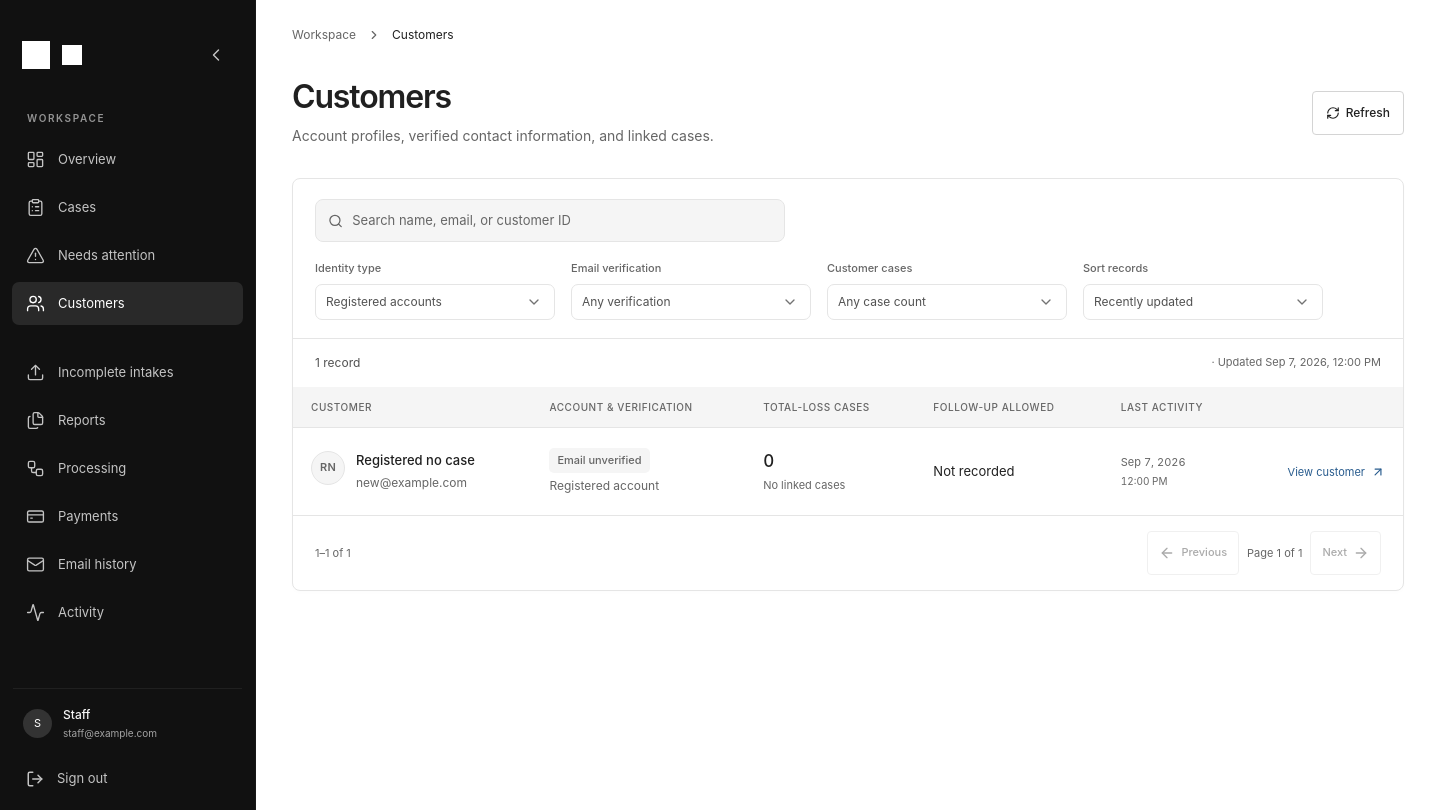
Test: admin operations workspace › includes registered accounts without cases and separates guests by identity
Expected: the link "Guest visitor" is not shown
Step 1. Click the link "Registered no case" → click(415, 460), box [356, 452, 475, 468]
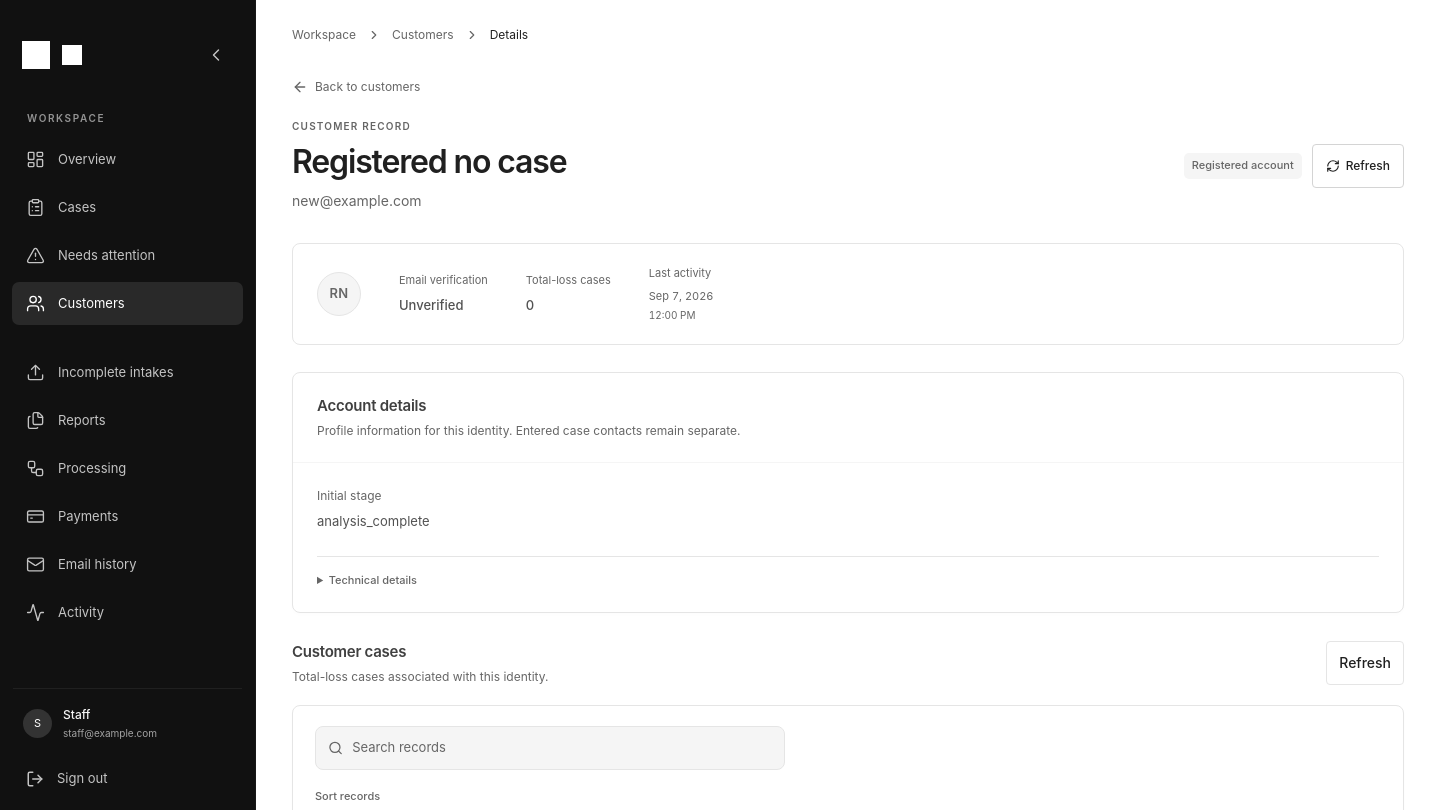
Expected: the heading "Registered no case" is shown, [292, 143, 566, 181]
Step 2. Click the link "Back to customers" → click(356, 87), box [292, 78, 420, 96]
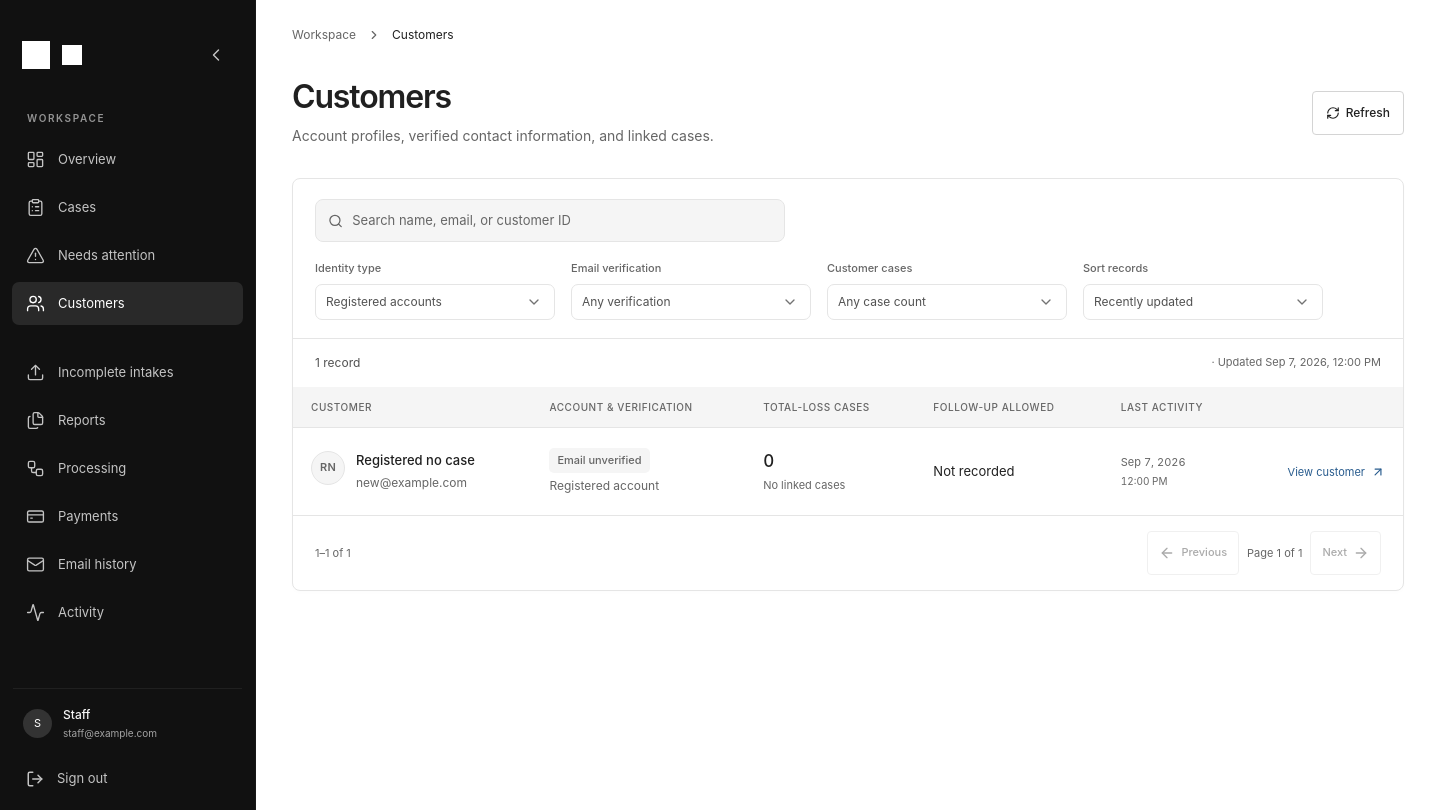
Step 3. Select "Guest sessions" in the dropdown labelled "Identity type" → (435, 302), box [315, 284, 555, 320]
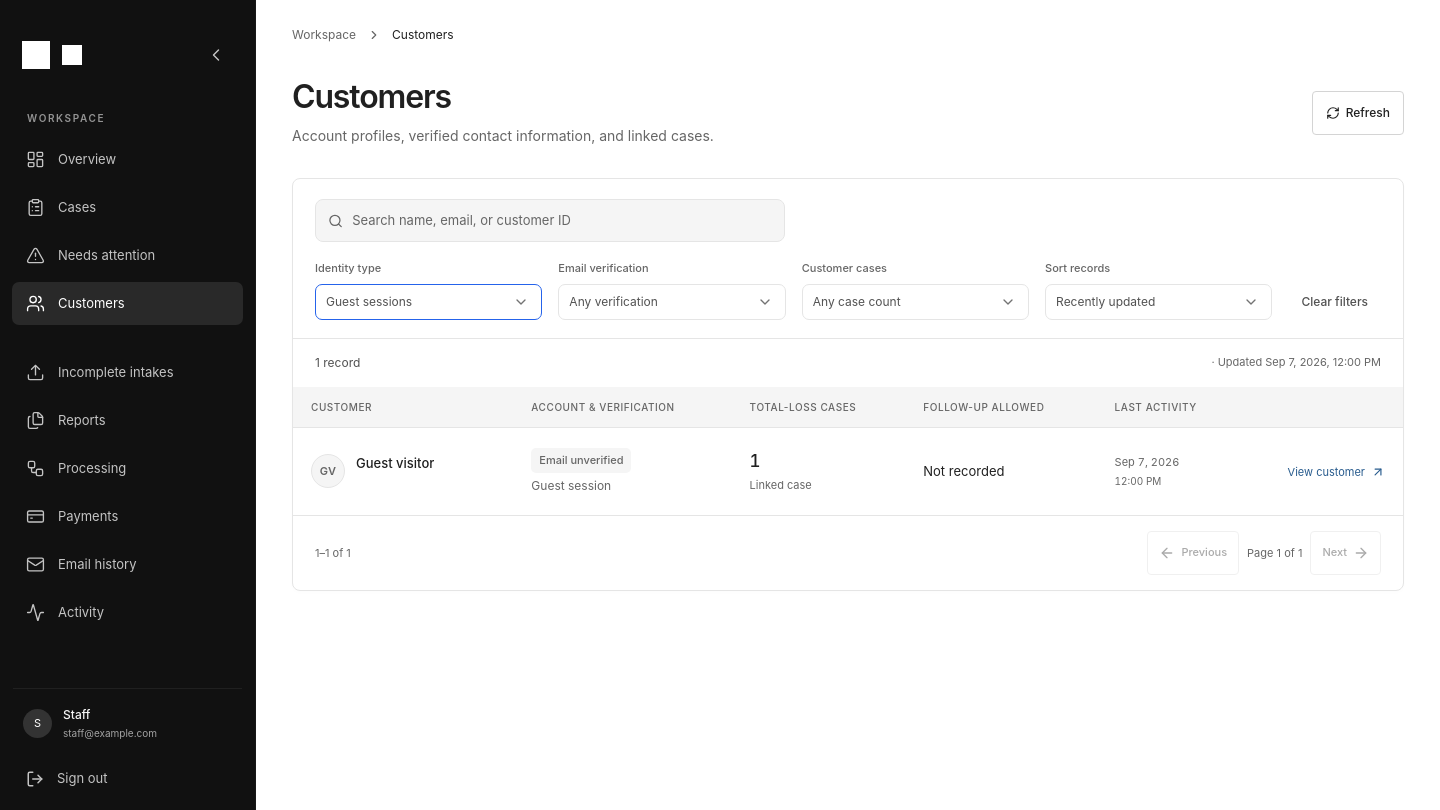
Expected: the link "Guest visitor" is shown, [356, 456, 434, 472]
Expected: the link "Registered no case" is gone
